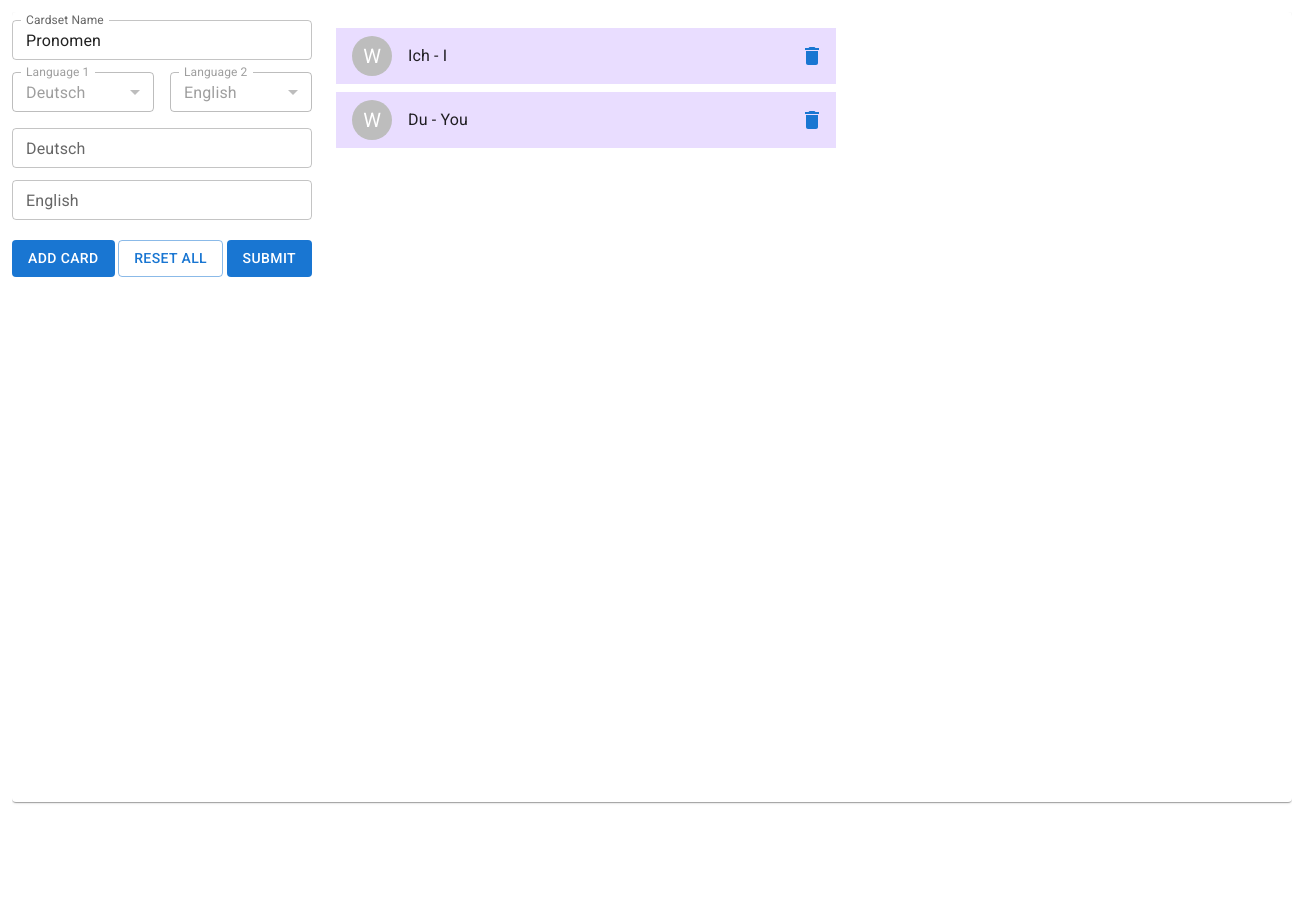
it: Record › should render a new card, clicking "add card" button
Expected: the number of list items with test id "record-cardset-display-card" is 2, x1=336 y1=28 x2=836 y2=84; x1=336 y1=92 x2=836 y2=148
Replace the text in the field labelled "Cardset Name" with "myCardset" at (162,40), box x1=12 y1=20 x2=312 y2=60
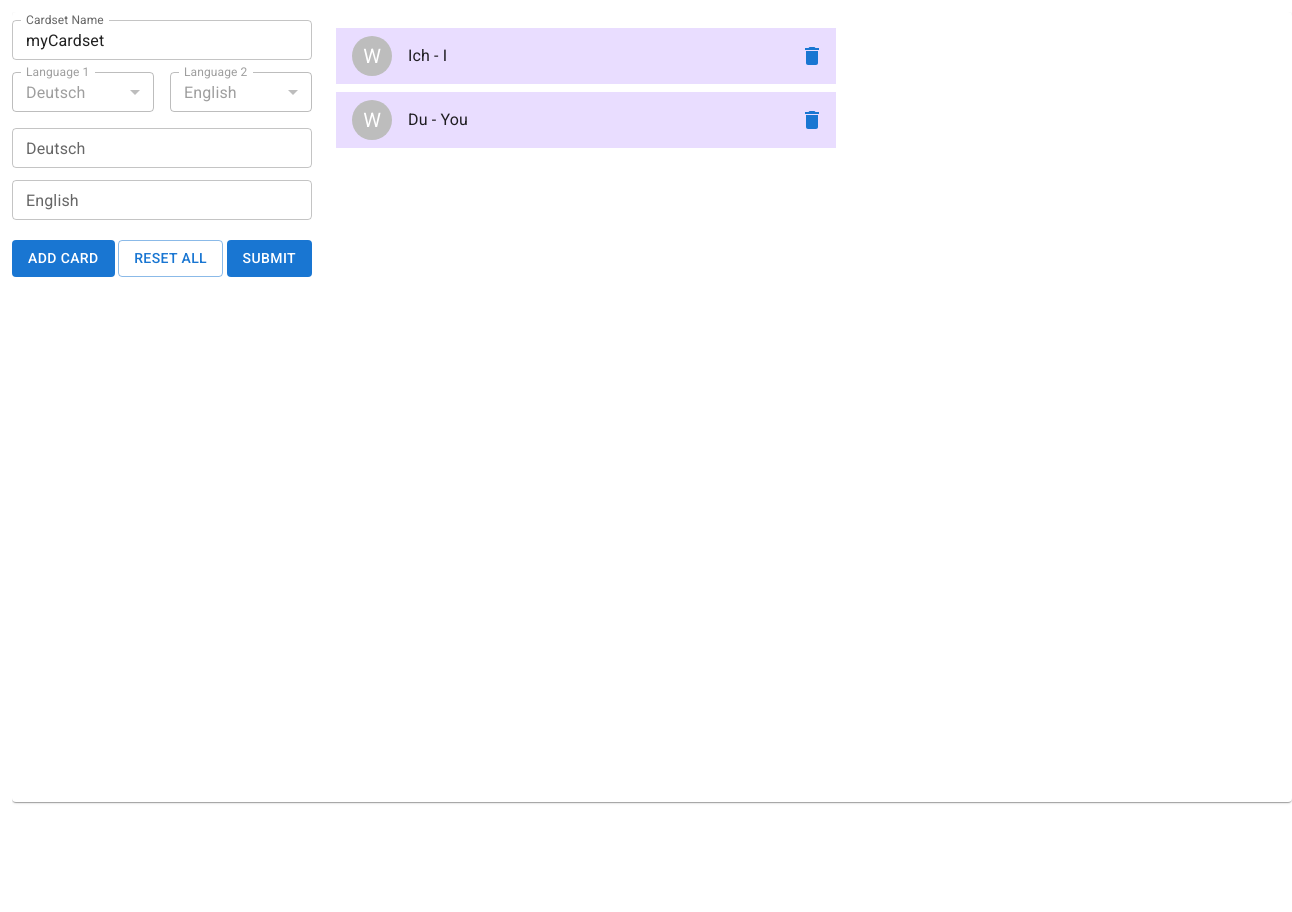
Type "wir" into the field labelled "Deutsch".
click(162, 148); type("wir")  # box x1=12 y1=128 x2=312 y2=168
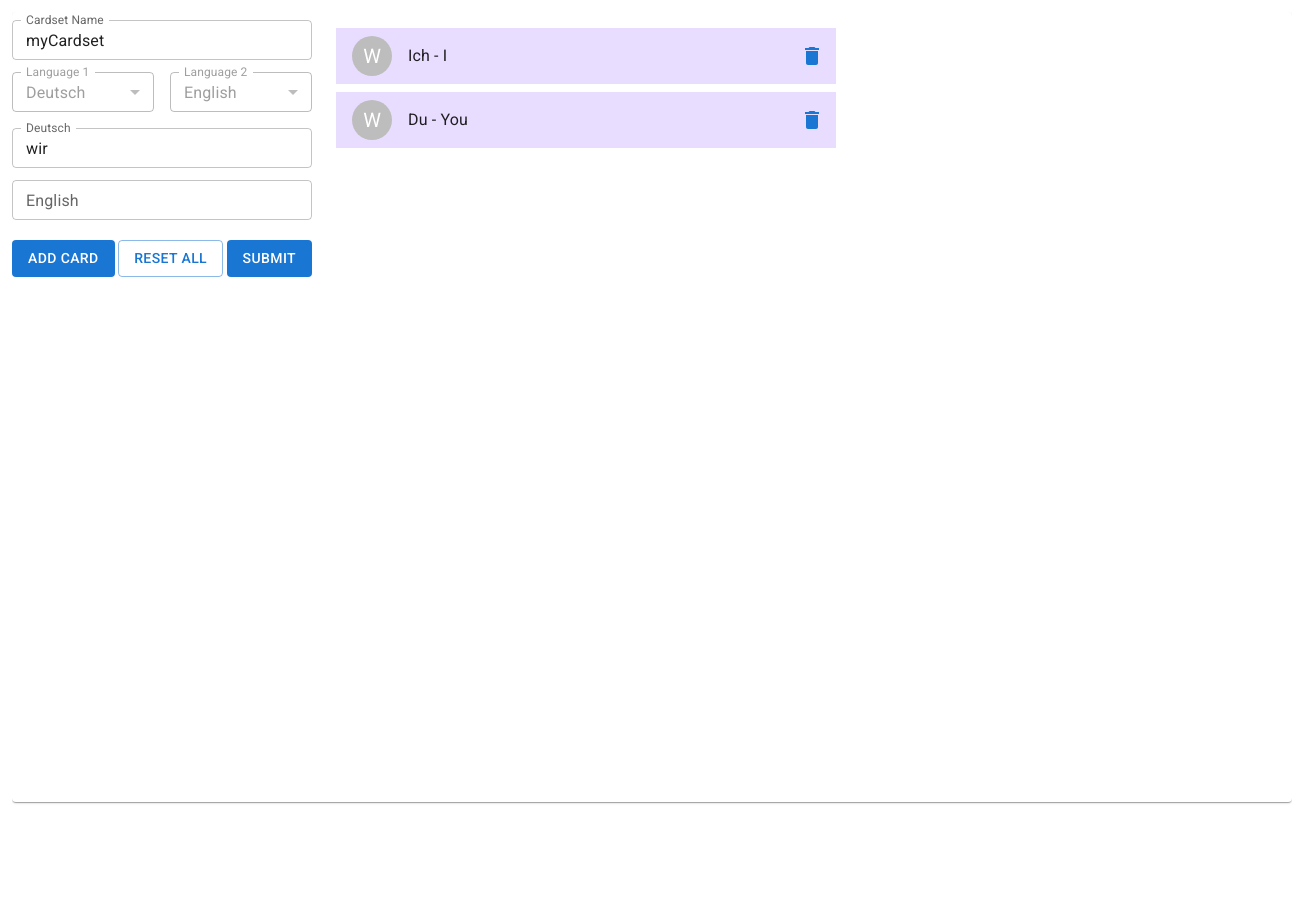
Type "we" into the 3rd field.
click(162, 200); type("we")  # box x1=12 y1=180 x2=312 y2=220
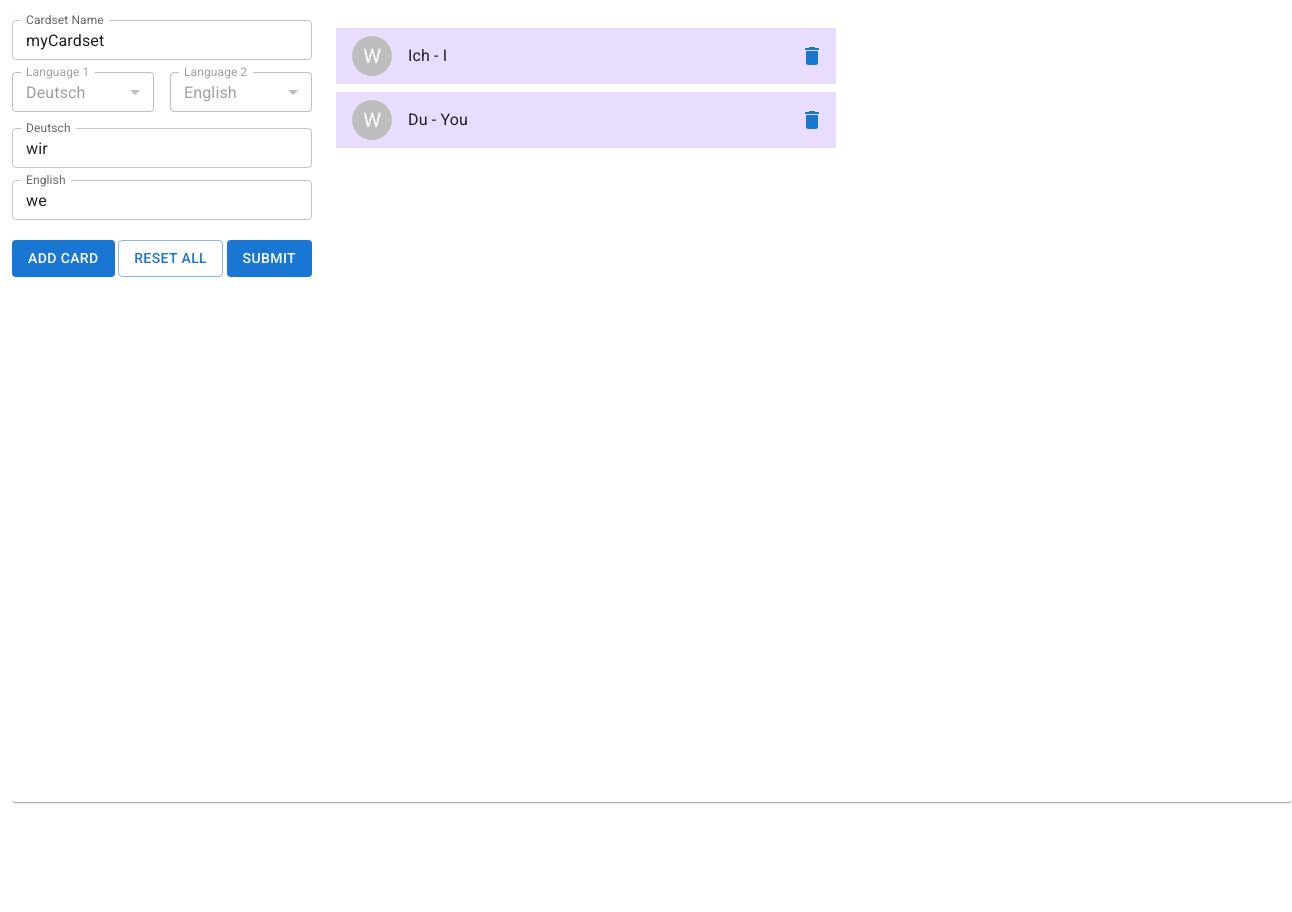
Click the button "Add card".
click(63, 258)  # box x1=12 y1=240 x2=115 y2=276
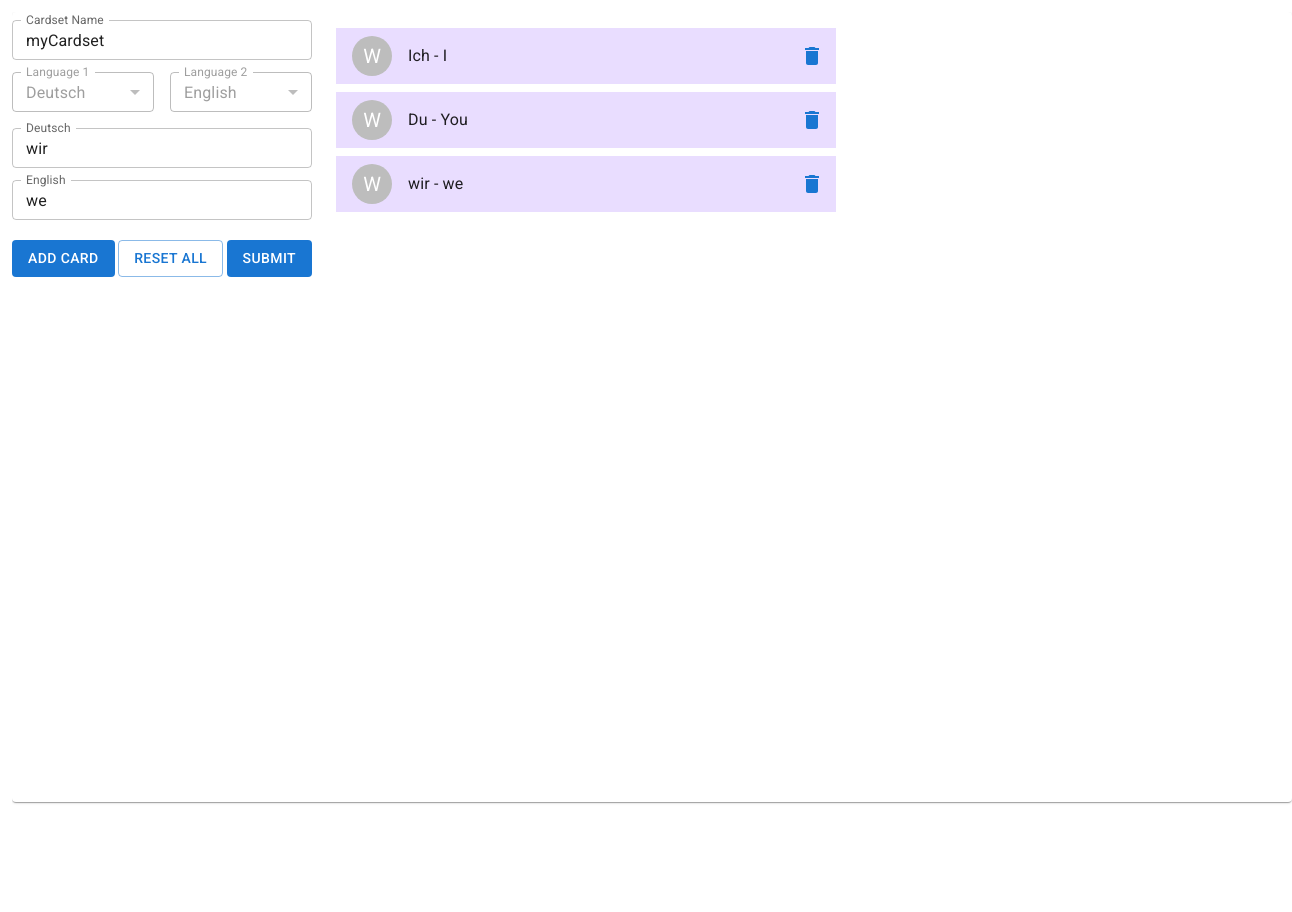
Now the number of list items with test id "record-cardset-display-card" is 3, box x1=336 y1=28 x2=836 y2=84; x1=336 y1=92 x2=836 y2=148; x1=336 y1=156 x2=836 y2=212
Now the list item with test id "record-cardset-display-card" shows "wir - we", box x1=408 y1=174 x2=463 y2=193
